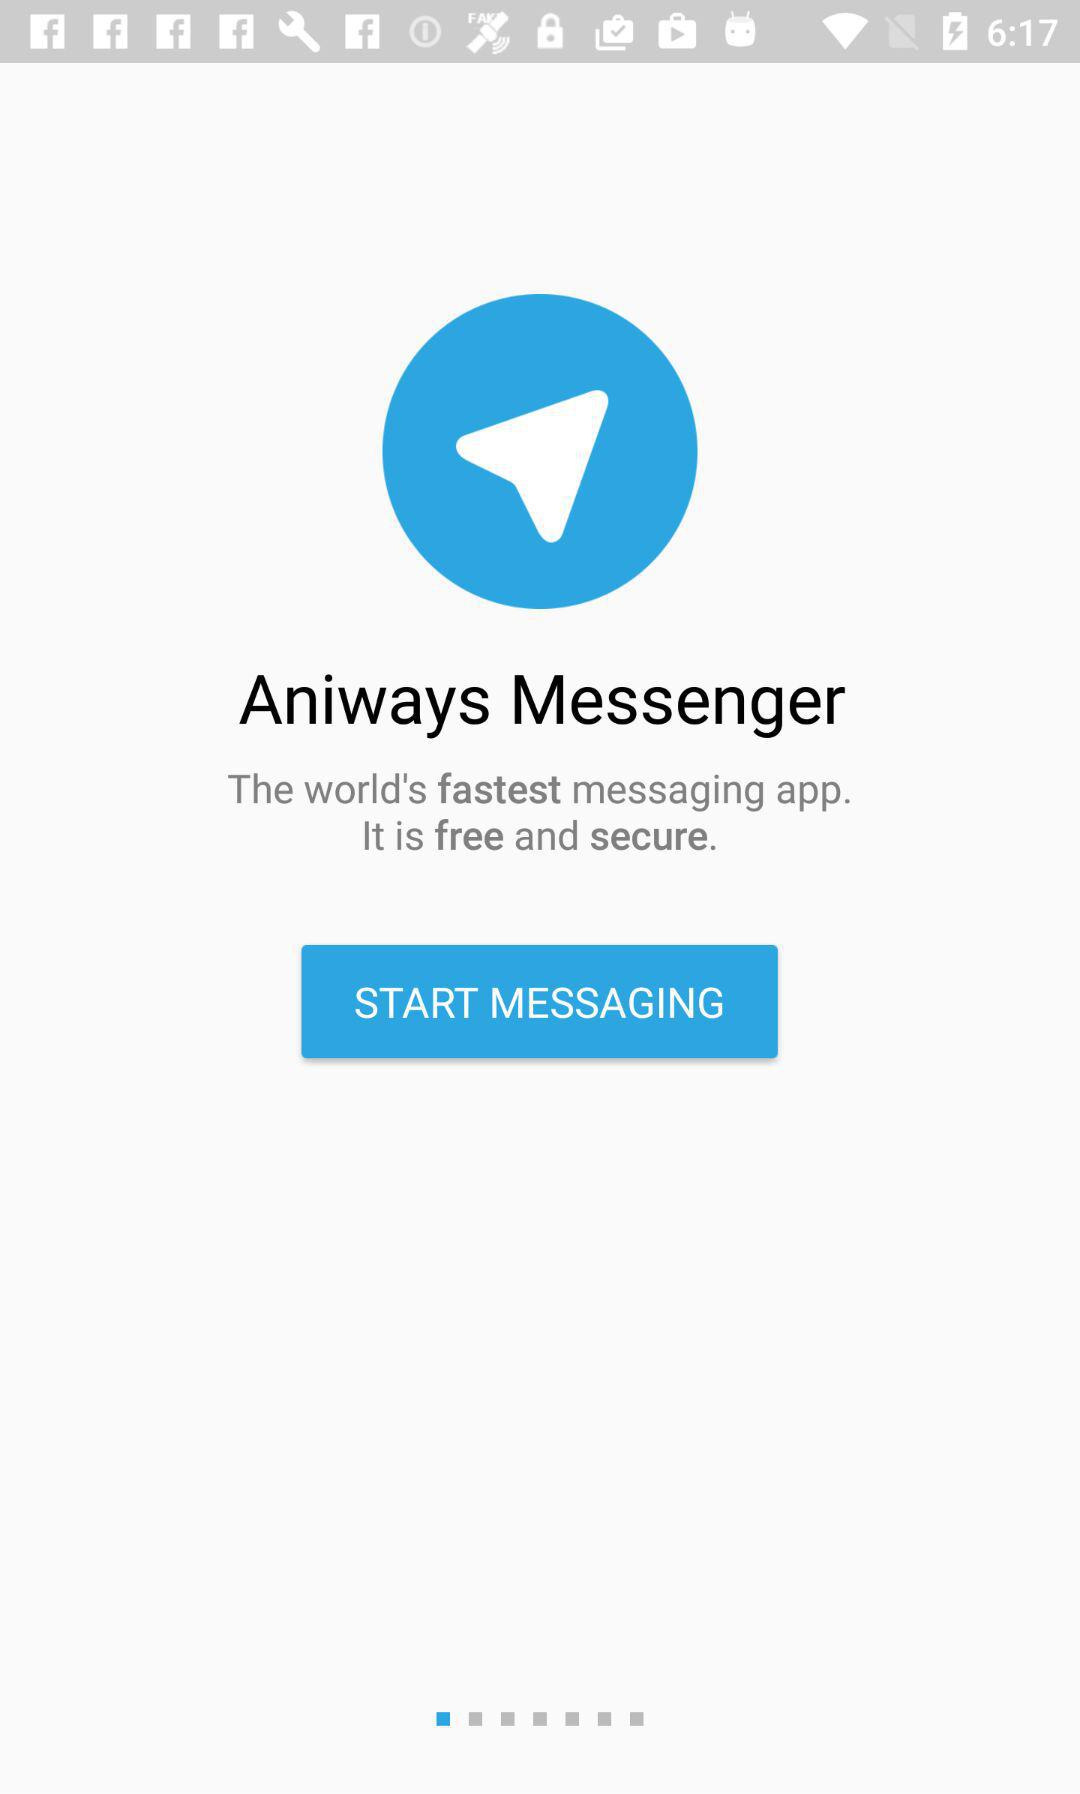Image: (382, 293, 700, 611)
PageIndicator: (436, 1711, 646, 1727)
Text: (228, 771, 852, 852), (240, 673, 847, 739)
TextButton: (302, 944, 779, 1058)
UpperTaskBar: (1, 1, 1080, 64)
